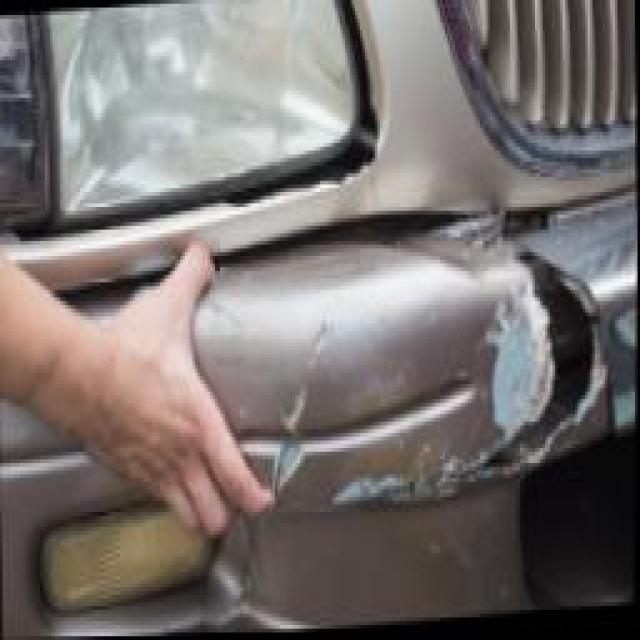Bumper: (212, 196, 611, 635)
